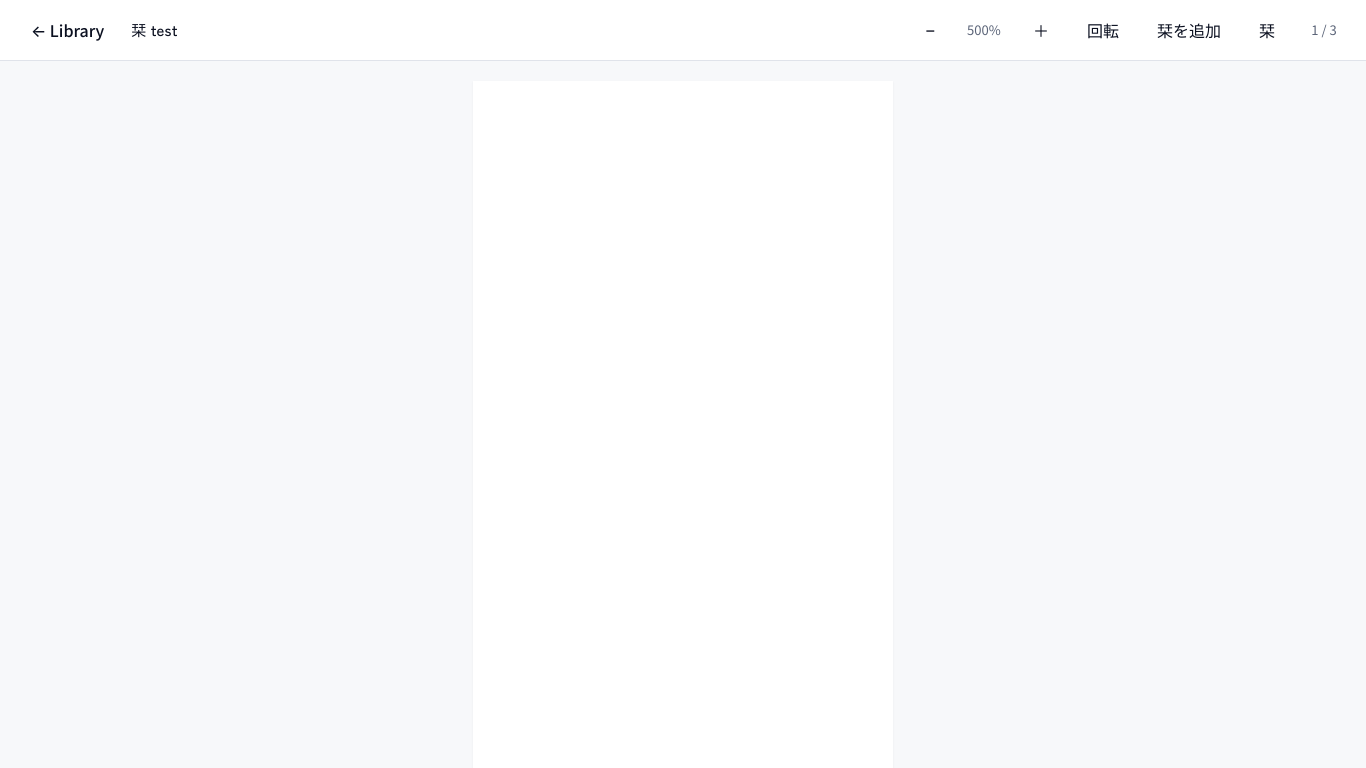
it: the bookmarks panel › asks before removing a mark, and cancelling leaves it alone
Click the button with test id "rm-toggle-bookmarks".
click(1267, 30)  # box [1244,10,1290,50]
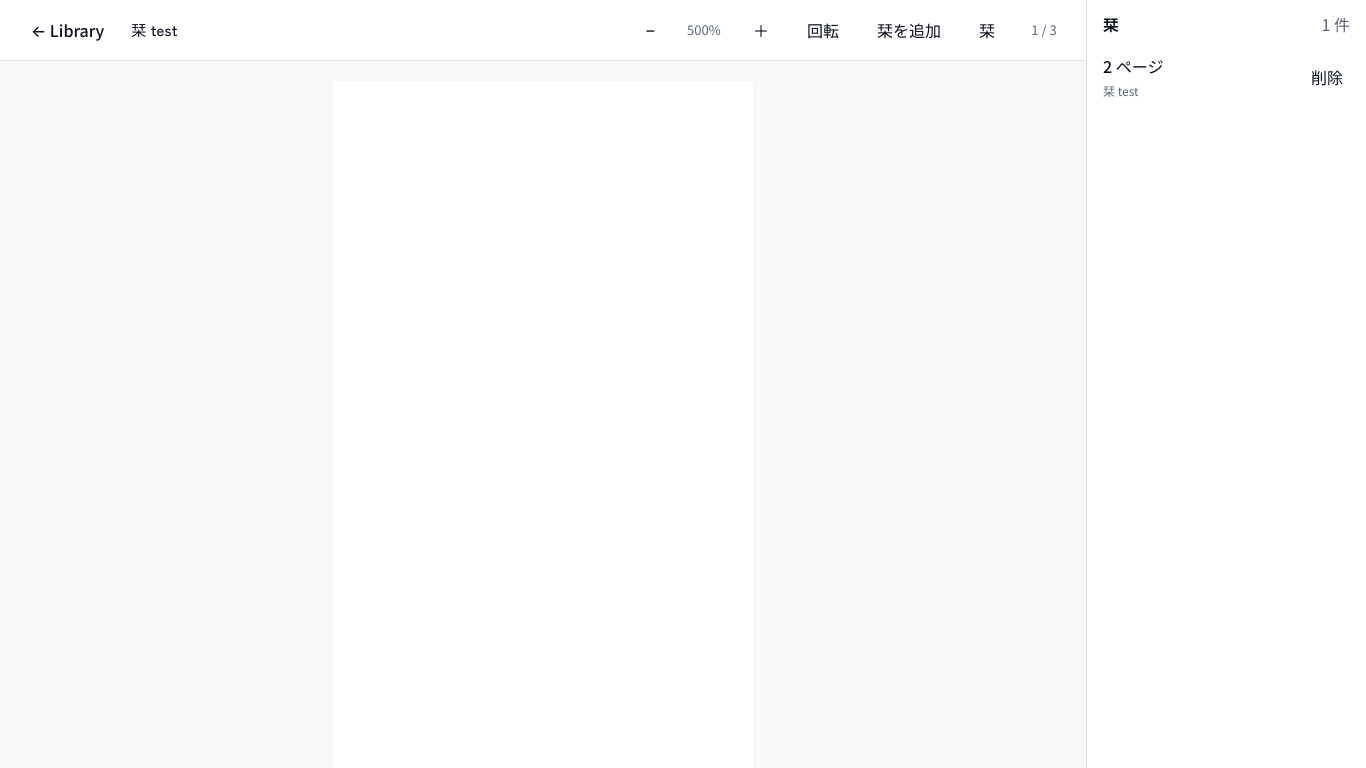
Now the list with test id "rm-bookmarks-list" is shown, box [1095,46,1358,108]
Click the button with test id "rm-bookmark-delete".
click(1327, 77)  # box [1296,57,1358,97]
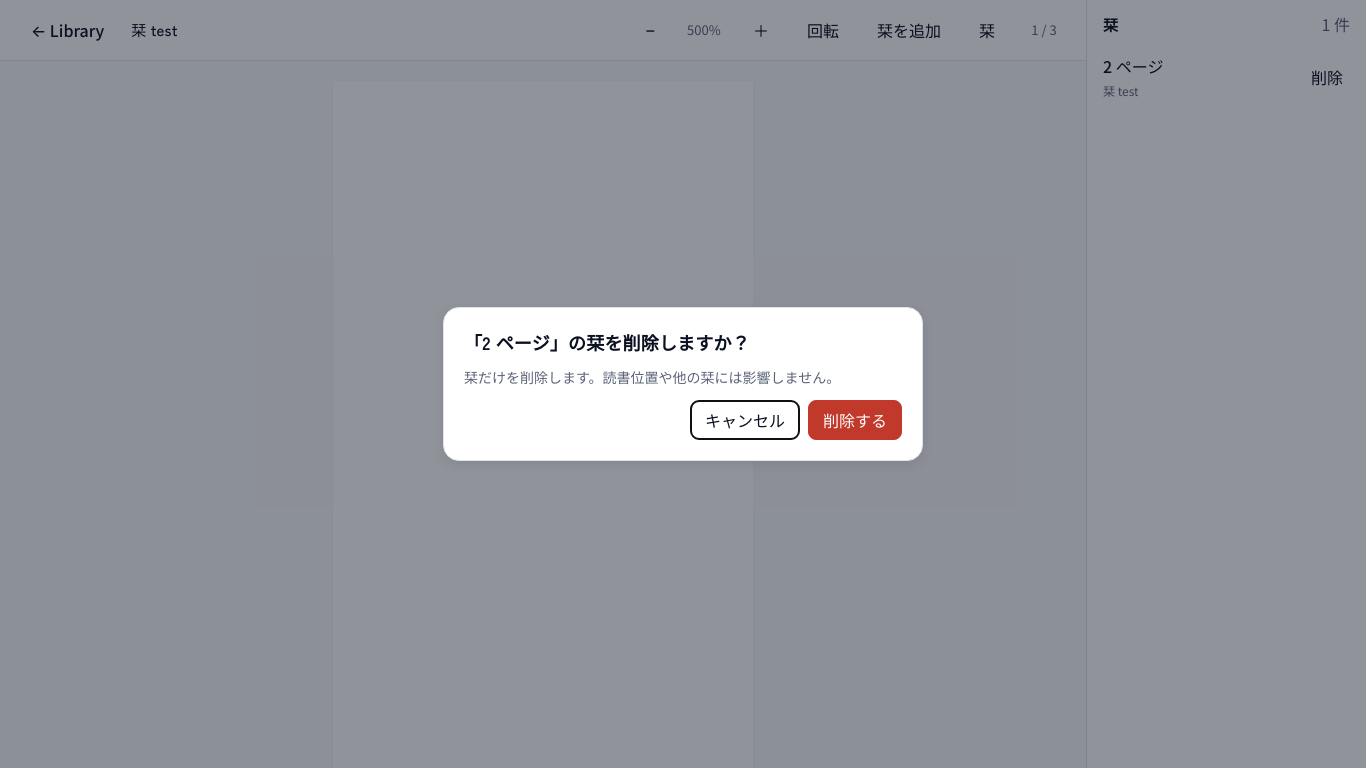
Now the dialog shows "2 ページ", box [464,329,750,355]
Click the button with test id "rm-dialog-cancel".
click(745, 420)  # box [690,400,800,440]
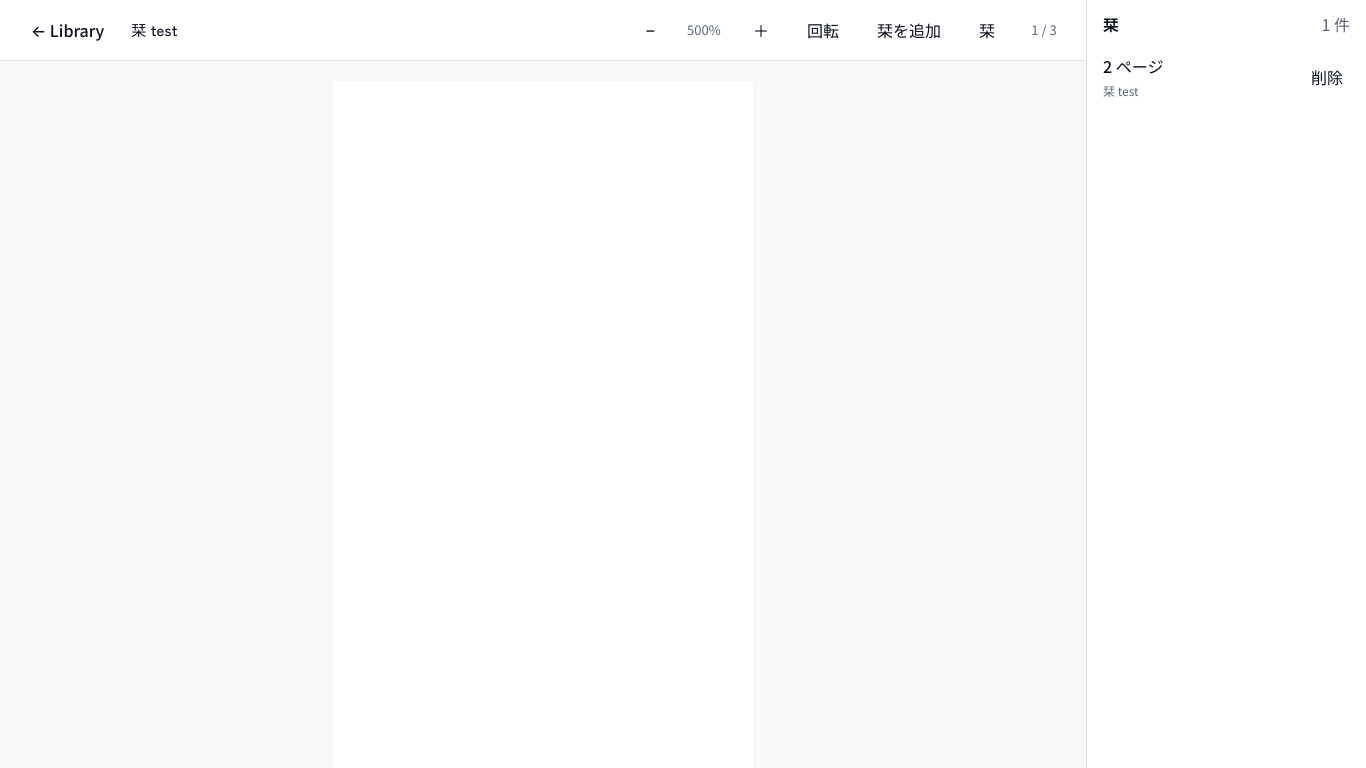
Now the text with test id "rm-bookmarks-count" reads "1 件", box [1322,12,1350,38]
Now the dialog is gone
